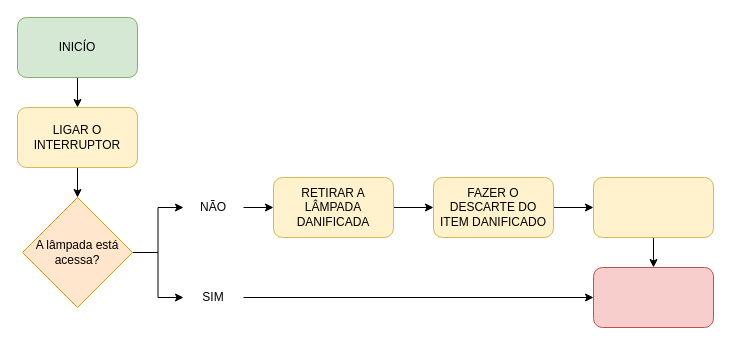
Image size: 731x345. Some labels were removed from this diagram. Here are the shapes that lost their labels. From the top down, the box of each, then its label:
(592, 176, 714, 238): RETIRAR E INSERIR A NOVA LÂMPADA NA BOQUILHA
(592, 266, 714, 328): FIM
